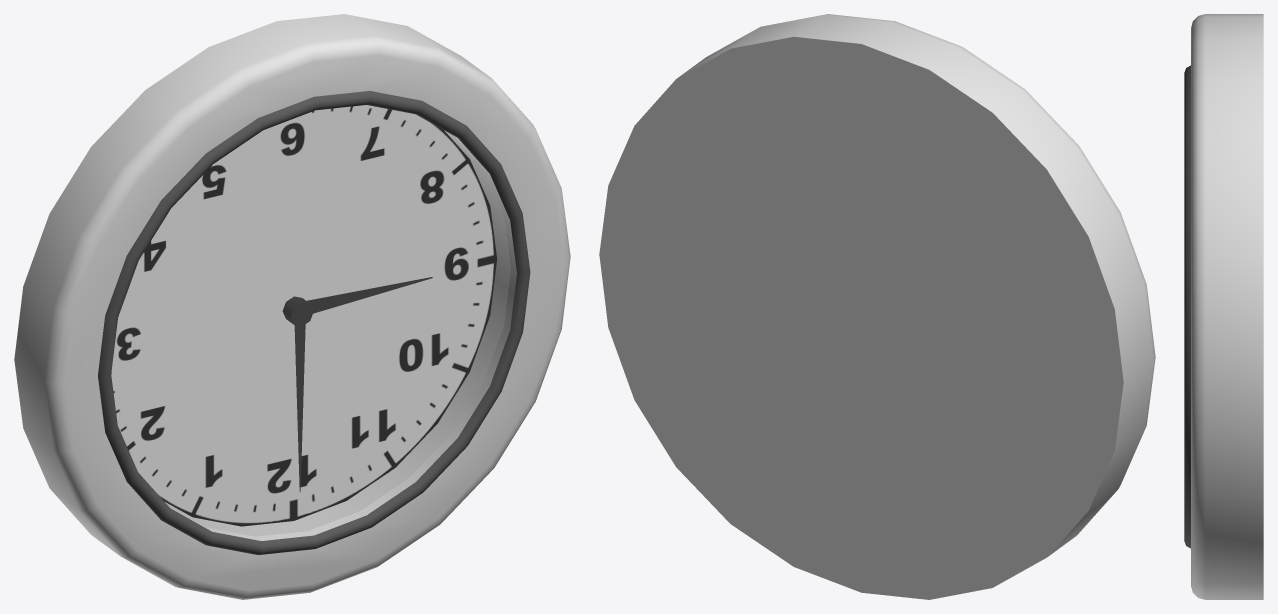
File: wall_clock.dae
The picture shows the model from 3 angles, left to right: view 1: azimuth 30°, elevation 25°; view 2: azimuth 150°, elevation 25°; view 3: azimuth 270°, elevation 25°; orthographic projection. The views are drawn at different scales.
Parts seen in each view (by area): view 1: group_0 (×5), hand (×2); view 2: group_0; view 3: group_0 (×2).
Part boxes in pixels (x1=…): group_0 (×5): x1=14, y1=14, x2=570, y2=599; hand (×2): x1=294, y1=277, x2=432, y2=492; group_0: x1=599, y1=14, x2=1155, y2=599; group_0 (×2): x1=1184, y1=14, x2=1263, y2=599.
Bounding box in the file's own units: 11.81 × 1.59 × 11.81.
Materials: 5 (1 with a texture image).
